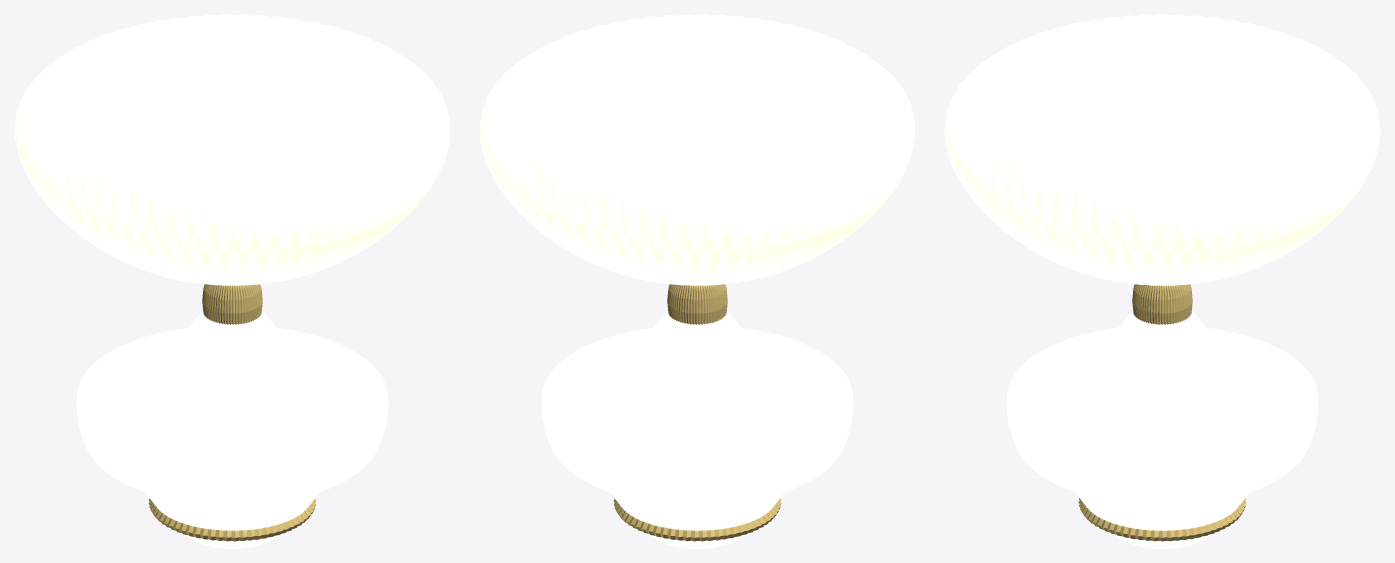
3 views of the same model, side by side, from view 1: azimuth 30°, elevation 25°; view 2: azimuth 150°, elevation 25°; view 3: azimuth 270°, elevation 25° (orthographic).
Visible parts, largest first — view 1: Amber_Shade, Glass_Bulb, Brass_Neck, Brass_Base; view 2: Amber_Shade, Glass_Bulb, Brass_Neck, Brass_Base; view 3: Amber_Shade, Glass_Bulb, Brass_Neck, Brass_Base.
Boxes of the visible parts, left/top/right/bottom form: Amber_Shade: left=14, top=14, right=450, bottom=285; Glass_Bulb: left=76, top=311, right=388, bottom=548; Brass_Neck: left=202, top=284, right=262, bottom=324; Brass_Base: left=148, top=498, right=316, bottom=541; Amber_Shade: left=479, top=14, right=915, bottom=285; Glass_Bulb: left=541, top=311, right=853, bottom=548; Brass_Neck: left=667, top=284, right=727, bottom=324; Brass_Base: left=613, top=498, right=781, bottom=541; Amber_Shade: left=944, top=14, right=1380, bottom=285; Glass_Bulb: left=1006, top=311, right=1318, bottom=548; Brass_Neck: left=1132, top=284, right=1192, bottom=324; Brass_Base: left=1078, top=498, right=1246, bottom=541.
Bounding box in the file's own units: 2.45 × 2.93 × 2.45.
